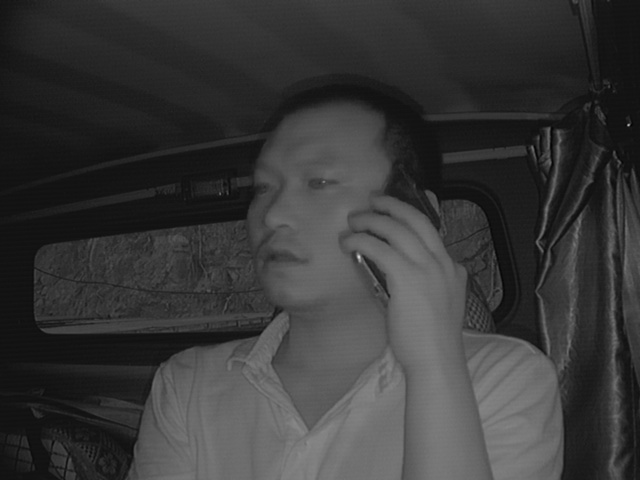hand: (344, 195, 463, 361)
